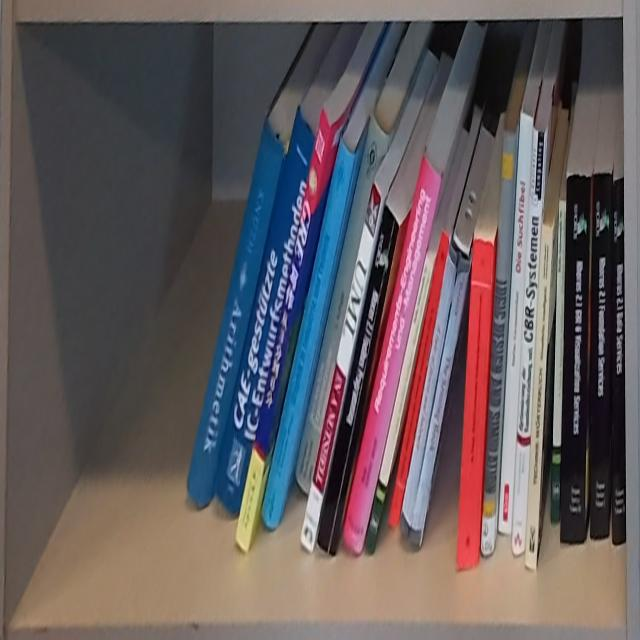Book Spine: (235, 107, 332, 552), (214, 108, 317, 512), (187, 116, 287, 511), (344, 152, 442, 555), (261, 136, 356, 530), (294, 111, 389, 497), (300, 178, 382, 554), (315, 203, 399, 560), (364, 252, 437, 558), (388, 228, 452, 526), (409, 260, 470, 550), (401, 242, 459, 542), (480, 127, 515, 556), (498, 110, 533, 535), (512, 129, 545, 558), (455, 237, 495, 571), (560, 175, 592, 547), (525, 223, 554, 572), (591, 173, 613, 541), (612, 175, 627, 548), (550, 198, 566, 524)
